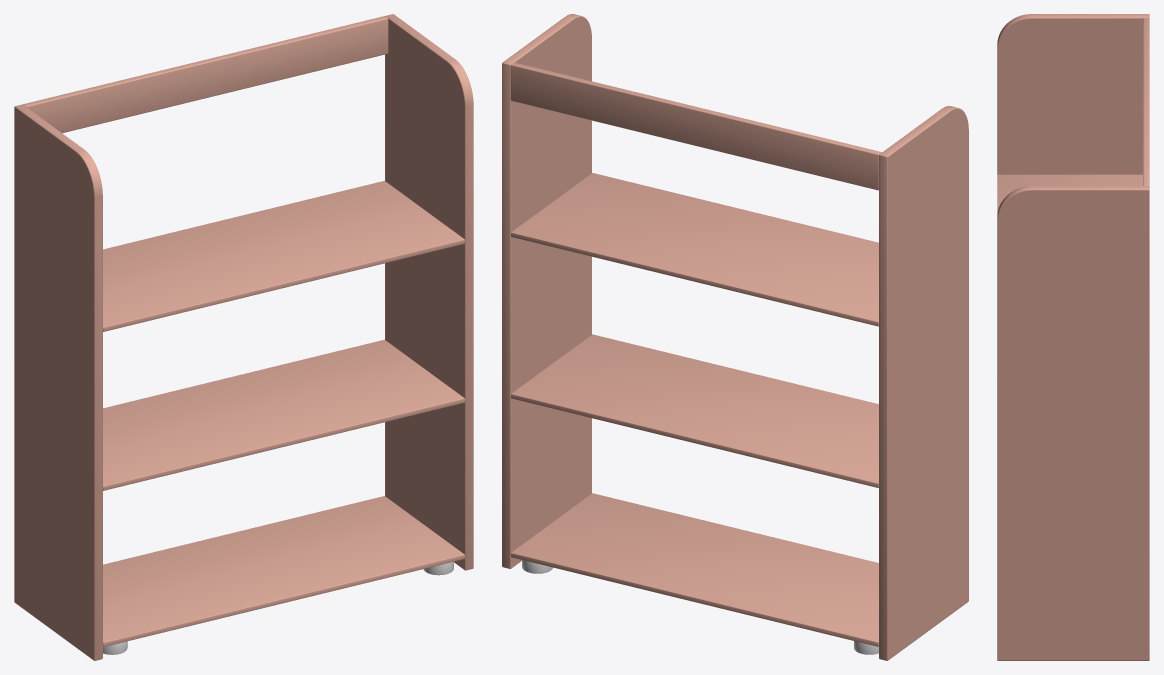
Rendered from play_shelf.gltf.
3 renders of one model, left to right at view 1: azimuth 30°, elevation 25°; view 2: azimuth 150°, elevation 25°; view 3: azimuth 270°, elevation 25°, orthographic. The views are drawn at different scales.
Visible parts, largest first — view 1: Cylinder; view 2: Cylinder; view 3: Cylinder.
Part boxes in pixels (x1,y1,x2,y2): Cylinder: [14, 14, 473, 660]; Cylinder: [502, 14, 968, 660]; Cylinder: [997, 14, 1149, 660].
Size of the model in its own units: 0.6 by 0.75 by 0.22.
1 material, 1 textured.
